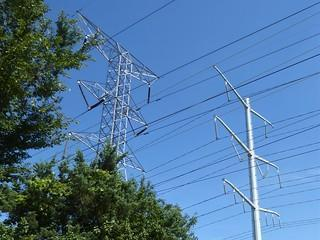power_tower: (63, 10, 161, 189), (211, 62, 285, 240)
